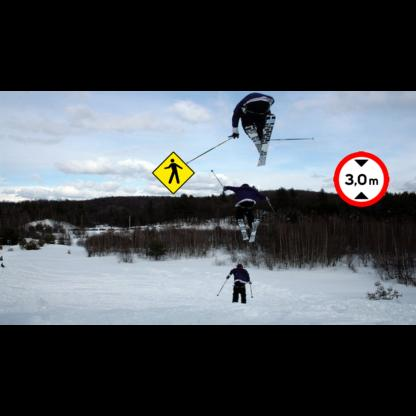A-32a: (152, 151, 195, 194)
R-15: (333, 151, 389, 207)
